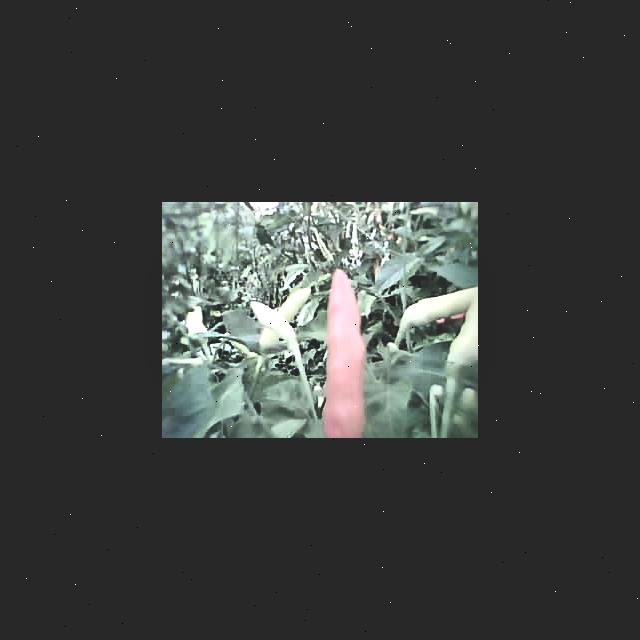Cabai: (326, 272, 368, 437)
